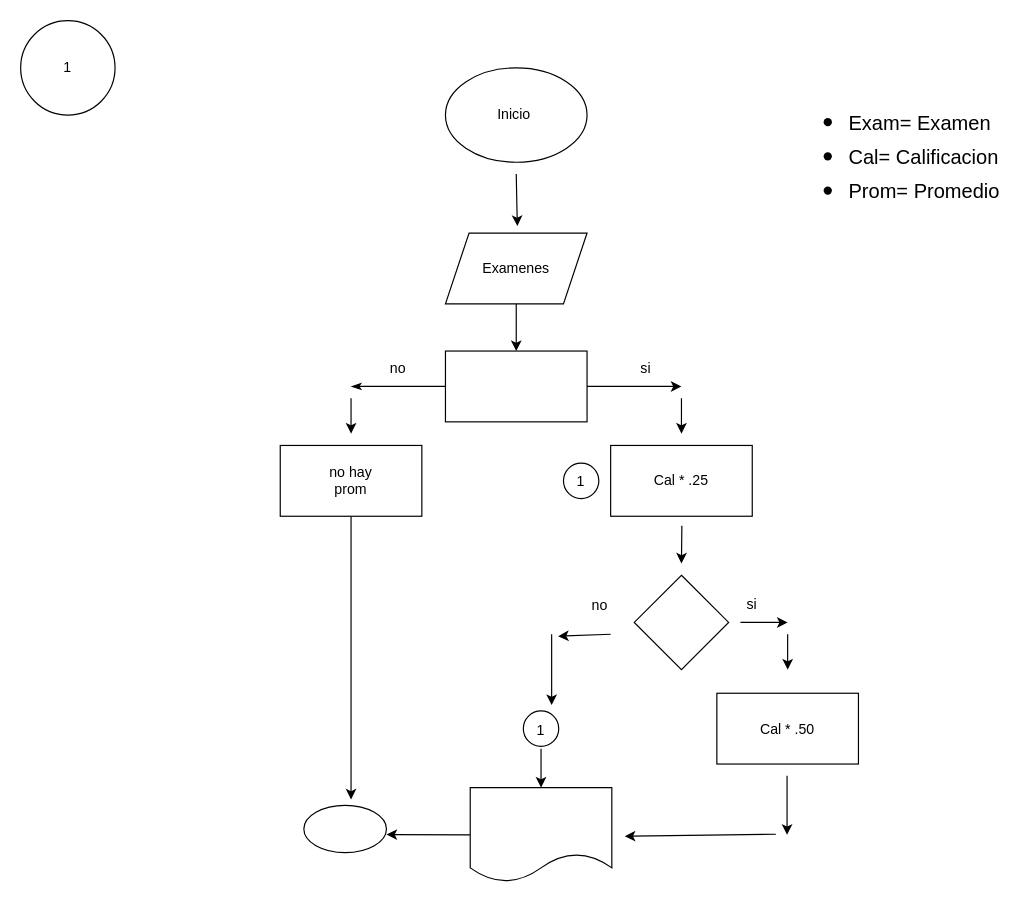
This 1033x903 diagram has some shape labels left out. The shapes that lost their labels are listed below. From the top down, each one's box as (x1, y1, x2, y2) in pixels, then its label:
(444, 350, 587, 422): 1, 2 Exam
(633, 574, 729, 670): Exam 3
(303, 804, 386, 853): Fin
(469, 786, 612, 882): Prom
